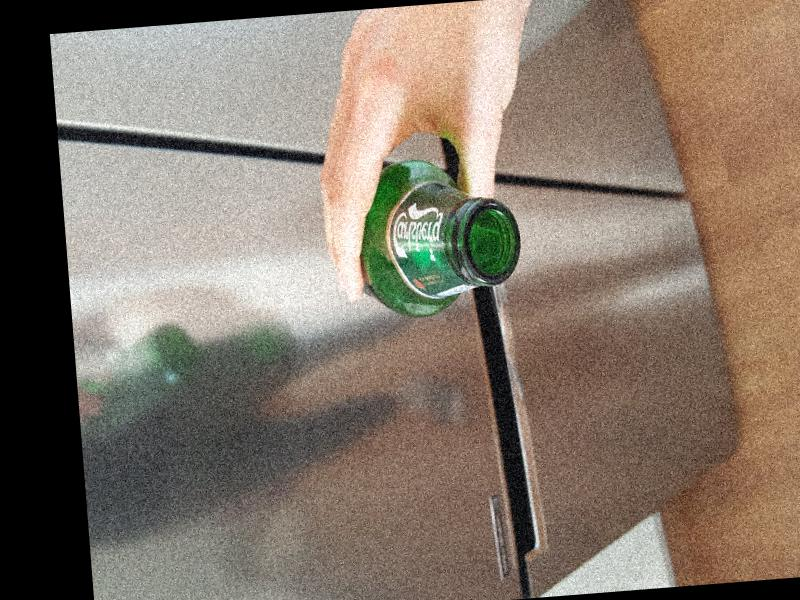Beer: (353, 156, 526, 320)
